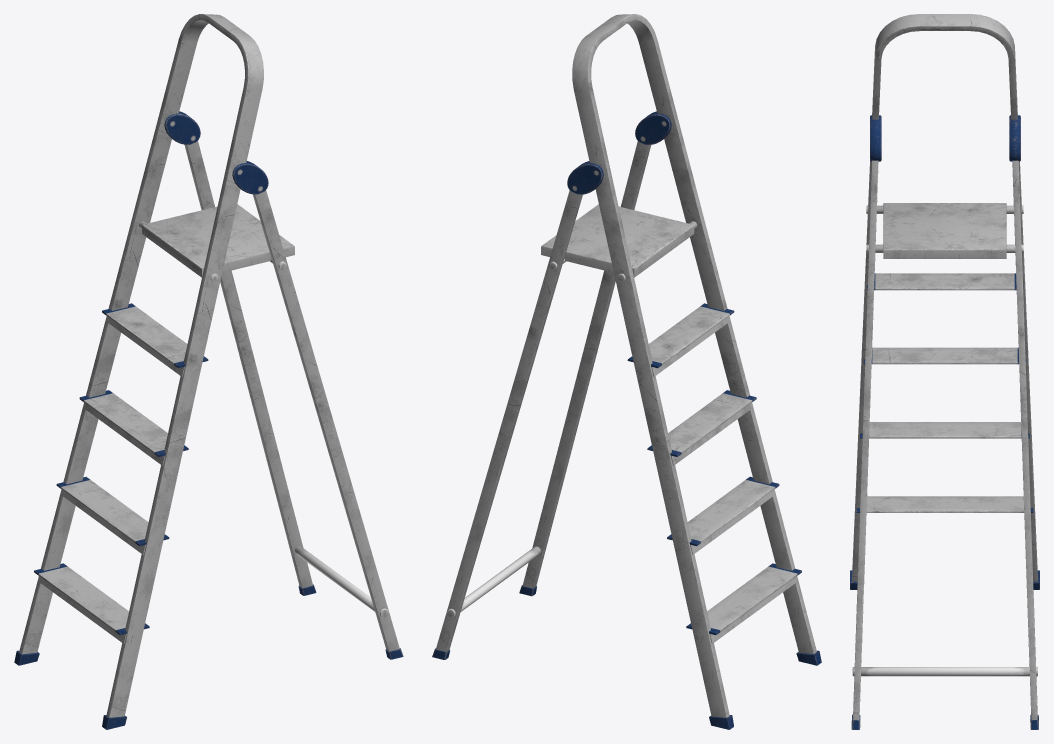
The model's file is Ladder01.FBX.
3 renders of one model, left to right at view 1: azimuth 30°, elevation 25°; view 2: azimuth 150°, elevation 25°; view 3: azimuth 270°, elevation 25°, orthographic. The views are drawn at different scales.
Parts seen in each view (by area): view 1: Ladder01_LOD0; view 2: Ladder01_LOD0; view 3: Ladder01_LOD0.
Boxes of the visible parts, x1=… form: Ladder01_LOD0: x1=14, y1=14, x2=403, y2=729; Ladder01_LOD0: x1=432, y1=14, x2=821, y2=729; Ladder01_LOD0: x1=850, y1=14, x2=1039, y2=729.
Size of what is drawn, in the model's own units: 104 by 210 by 55.71.
